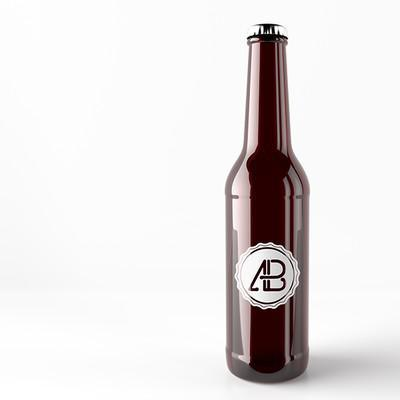beer: (223, 22, 312, 386)
